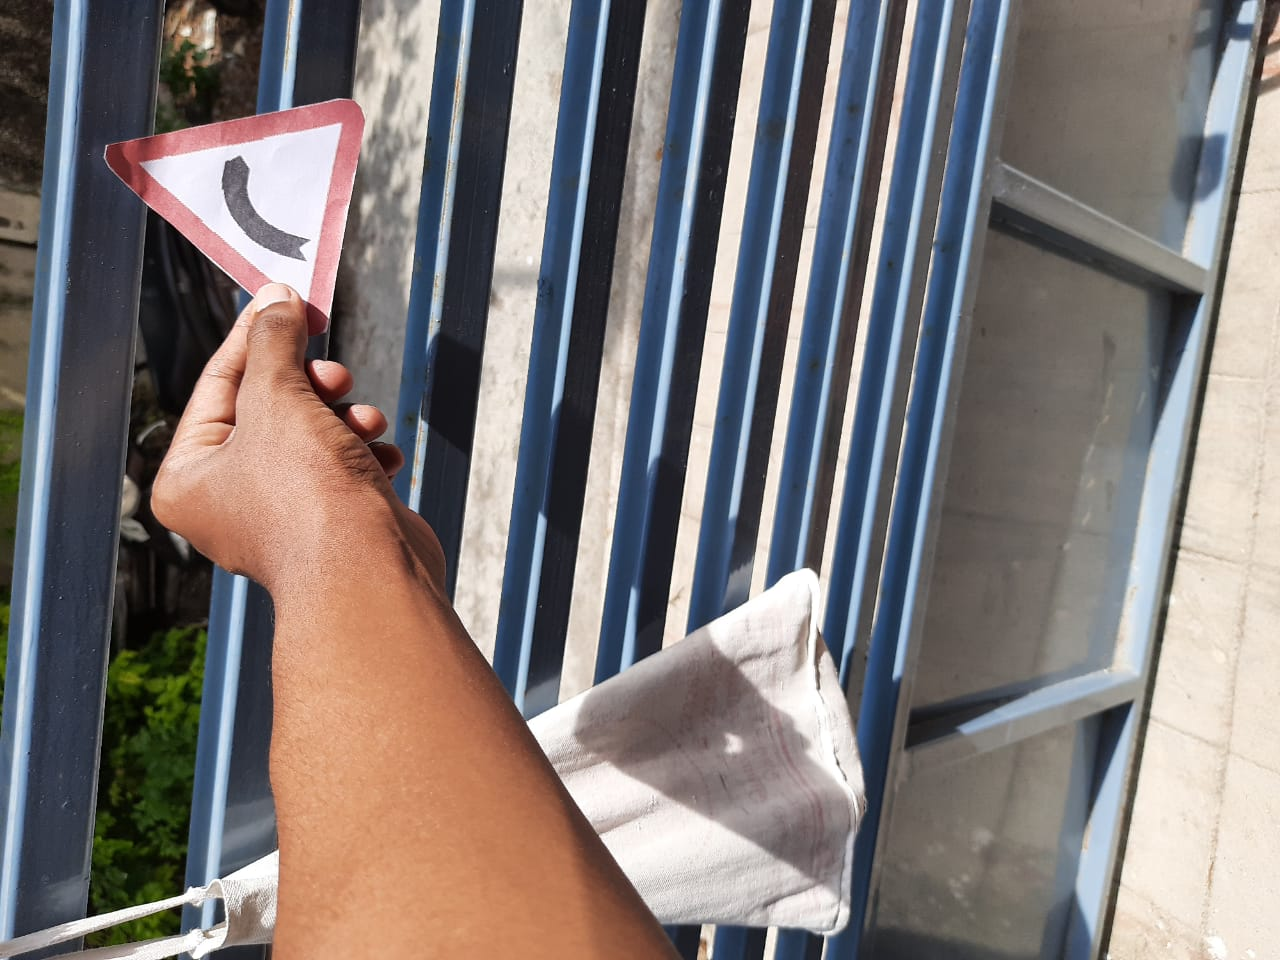RIGHT CURVE: (95, 82, 370, 342)
